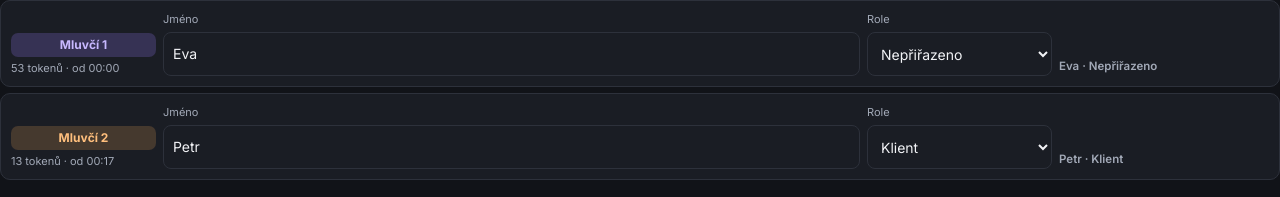
SpeakerSummaryEditor › ignores stale settlements for a newer draft of the same speaker
Select "Klient" in the dropdown named "Role Mluvčí 1" at (960,54), box [867,32,1052,76]
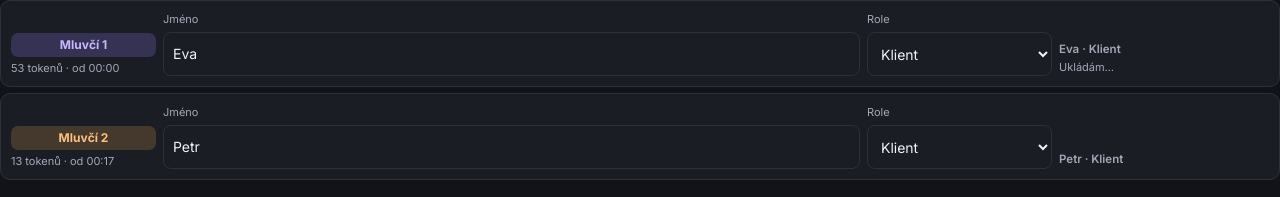
Select "Dodavatel / náš tým" in the dropdown named "Role Mluvčí 1" at (960,54), box [867,32,1052,76]
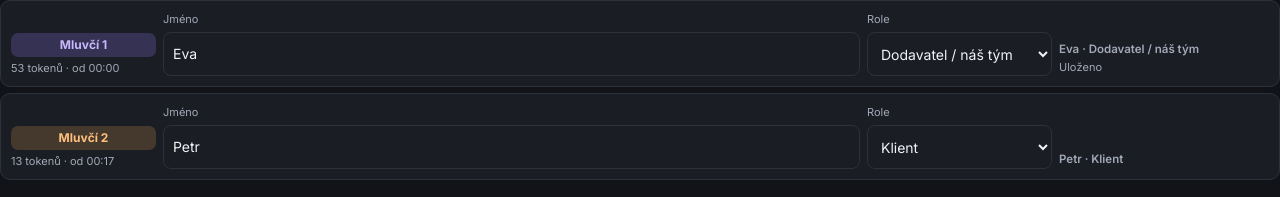
Now the text "Eva · Dodavatel / náš tým" is shown, box [1059,42,1199,56]
